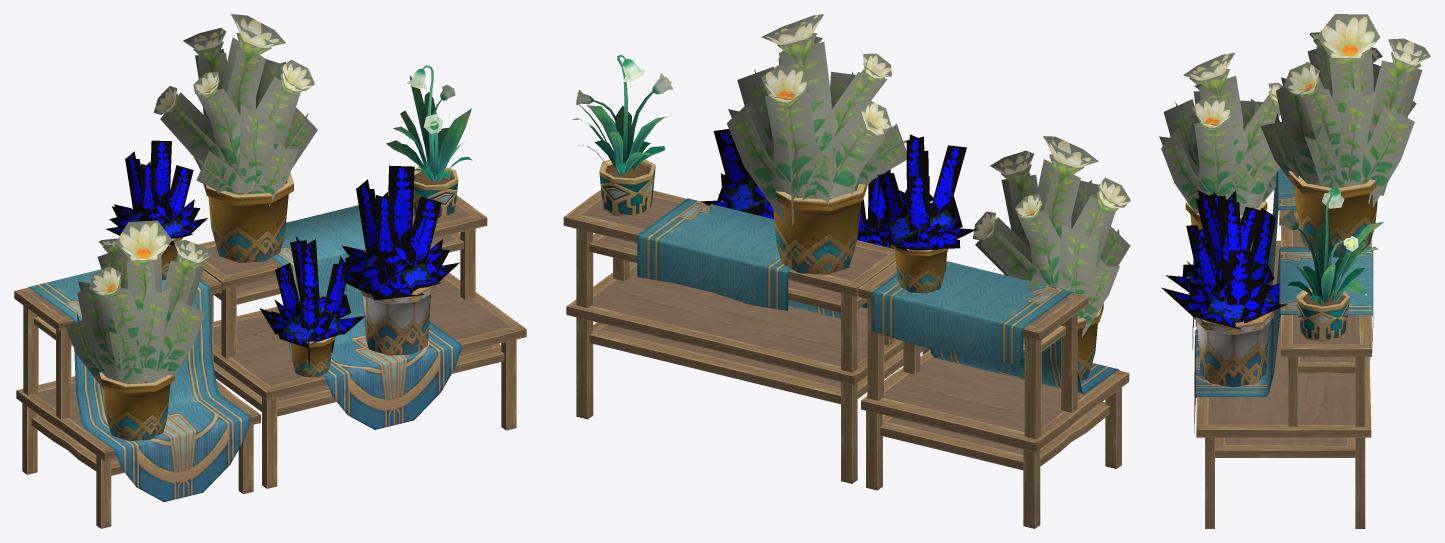
Rendered from Homeworld_Exterior_Fd_Decoration_Prop_HuaTanwei_01_Lod0.fbx.
3 renders of one model, left to right at view 1: azimuth 30°, elevation 25°; view 2: azimuth 150°, elevation 25°; view 3: azimuth 270°, elevation 25°, orthographic. The views are drawn at different scales.
Parts seen in each view (by area): view 1: Area_Fd_Prop_FDC_Tanwei_03_Lod0, Area_Fd_Prop_FDC_Tanwei_10_Vo (×2), Area_Fd_Prop_FDC_Tanwei_04_Lod0, Area_Fd_Prop_FDC_Tanwei_11_Vo (×2), Area_Fd_Prop_FDC_Tanwei_11_Vo (1), Area_Fd_Prop_FDC_Tanwei_12_Vo; view 2: Area_Fd_Prop_FDC_Tanwei_03_Lod0, Area_Fd_Prop_FDC_Tanwei_04_Lod0, Area_Fd_Prop_FDC_Tanwei_10_Vo (×2), Area_Fd_Prop_FDC_Tanwei_11_Vo (×2), Area_Fd_Prop_FDC_Tanwei_12_Vo, Area_Fd_Prop_FDC_Tanwei_11_Vo (1); view 3: Area_Fd_Prop_FDC_Tanwei_03_Lod0, Area_Fd_Prop_FDC_Tanwei_10_Vo (×2), Area_Fd_Prop_FDC_Tanwei_11_Vo, Area_Fd_Prop_FDC_Tanwei_12_Vo, Area_Fd_Prop_FDC_Tanwei_04_Lod0, Area_Fd_Prop_FDC_Tanwei_11_Vo (1).
Boxes of the visible parts, x1=… form: Area_Fd_Prop_FDC_Tanwei_03_Lod0: x1=199, y1=166, x2=526, y2=488; Area_Fd_Prop_FDC_Tanwei_10_Vo (×2): x1=65, y1=14, x2=317, y2=389; Area_Fd_Prop_FDC_Tanwei_04_Lod0: x1=14, y1=237, x2=260, y2=528; Area_Fd_Prop_FDC_Tanwei_11_Vo (×2): x1=106, y1=140, x2=459, y2=300; Area_Fd_Prop_FDC_Tanwei_11_Vo (1): x1=259, y1=236, x2=365, y2=364; Area_Fd_Prop_FDC_Tanwei_12_Vo: x1=386, y1=65, x2=472, y2=181; Area_Fd_Prop_FDC_Tanwei_03_Lod0: x1=563, y1=159, x2=930, y2=483; Area_Fd_Prop_FDC_Tanwei_04_Lod0: x1=858, y1=244, x2=1129, y2=528; Area_Fd_Prop_FDC_Tanwei_10_Vo (×2): x1=727, y1=14, x2=1130, y2=337; Area_Fd_Prop_FDC_Tanwei_11_Vo (×2): x1=700, y1=129, x2=976, y2=251; Area_Fd_Prop_FDC_Tanwei_12_Vo: x1=573, y1=55, x2=672, y2=175; Area_Fd_Prop_FDC_Tanwei_11_Vo (1): x1=857, y1=169, x2=904, y2=248; Area_Fd_Prop_FDC_Tanwei_03_Lod0: x1=1193, y1=171, x2=1377, y2=528; Area_Fd_Prop_FDC_Tanwei_10_Vo (×2): x1=1159, y1=14, x2=1430, y2=215; Area_Fd_Prop_FDC_Tanwei_11_Vo: x1=1161, y1=190, x2=1287, y2=329; Area_Fd_Prop_FDC_Tanwei_12_Vo: x1=1279, y1=187, x2=1383, y2=304; Area_Fd_Prop_FDC_Tanwei_04_Lod0: x1=1185, y1=168, x2=1296, y2=350; Area_Fd_Prop_FDC_Tanwei_11_Vo (1): x1=1166, y1=192, x2=1260, y2=293.
Size of the model in its own units: 2.92 by 2.53 by 1.51.
